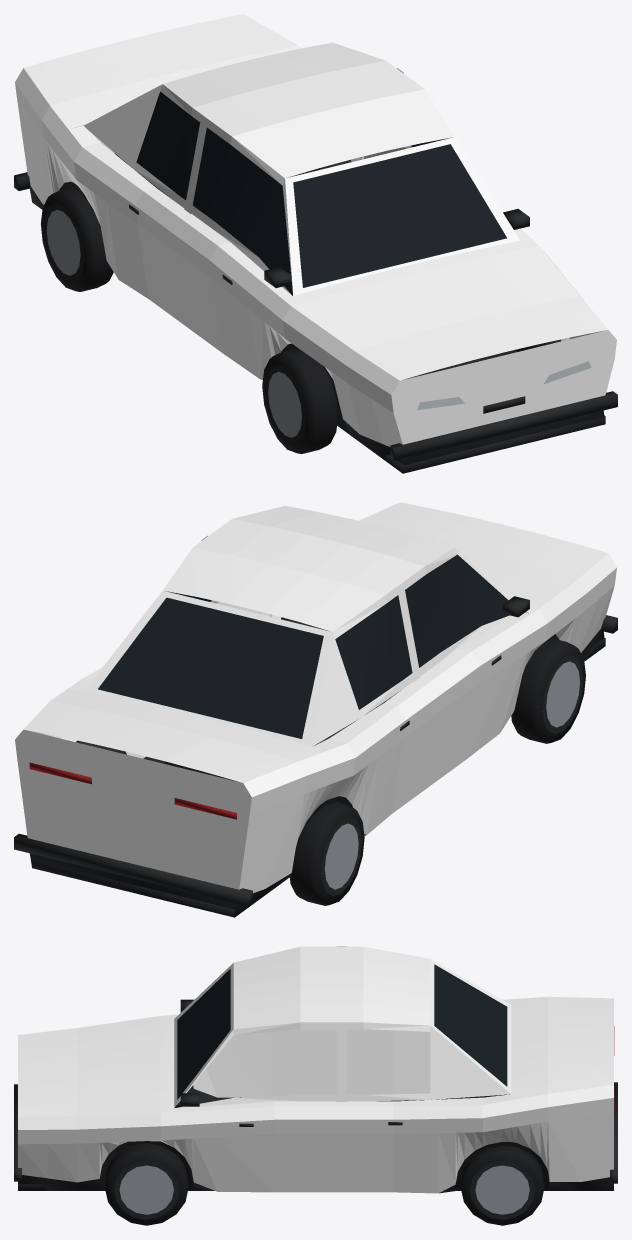
File: hayase_casulo.glb
The picture shows the model from 3 angles, top to bottom: view 1: azimuth 30°, elevation 25°; view 2: azimuth 150°, elevation 25°; view 3: azimuth 270°, elevation 25°; orthographic projection. The views are drawn at different scales.
Visible parts, largest first — view 1: Body_Paint, Body_Details, Mount_FrontLeft_Wheel_Details, Mount_RearLeft_Wheel_Details; view 2: Body_Paint, Body_Details, Mount_FrontLeft_Wheel_Details, Mount_RearLeft_Wheel_Details; view 3: Body_Paint, Body_Details, Mount_FrontRight_Wheel_Details, Mount_RearRight_Wheel_Details.
Part boxes in pixels (left/top/right/bottom): Body_Paint: left=15, top=14, right=616, bottom=446; Body_Details: left=14, top=91, right=617, bottom=473; Mount_FrontLeft_Wheel_Details: left=262, top=348, right=337, bottom=453; Mount_RearLeft_Wheel_Details: left=41, top=187, right=113, bottom=291; Body_Paint: left=15, top=502, right=616, bottom=893; Body_Details: left=14, top=554, right=617, bottom=917; Mount_FrontLeft_Wheel_Details: left=511, top=638, right=585, bottom=743; Mount_RearLeft_Wheel_Details: left=289, top=802, right=364, bottom=905; Body_Paint: left=18, top=946, right=613, bottom=1193; Body_Details: left=14, top=964, right=617, bottom=1193; Mount_FrontRight_Wheel_Details: left=104, top=1143, right=188, bottom=1225; Mount_RearRight_Wheel_Details: left=460, top=1145, right=544, bottom=1225.
Bounding box in the file's own units: 1.81 × 1.46 × 4.18.
2 materials, 1 textured.
